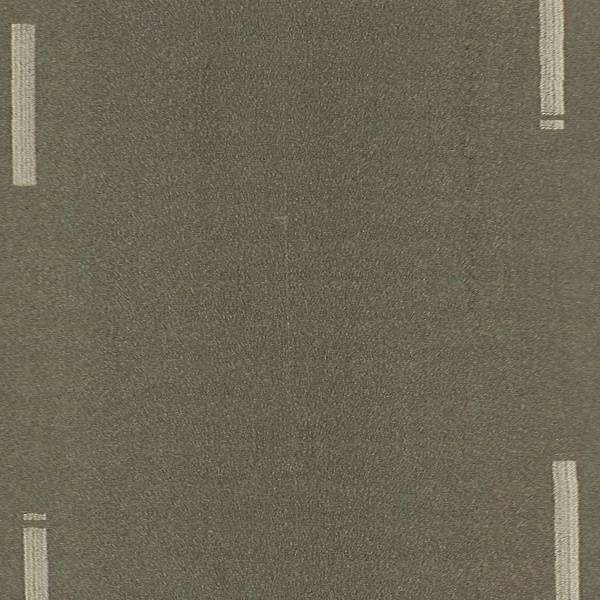road_damage: (442, 31, 507, 338)
